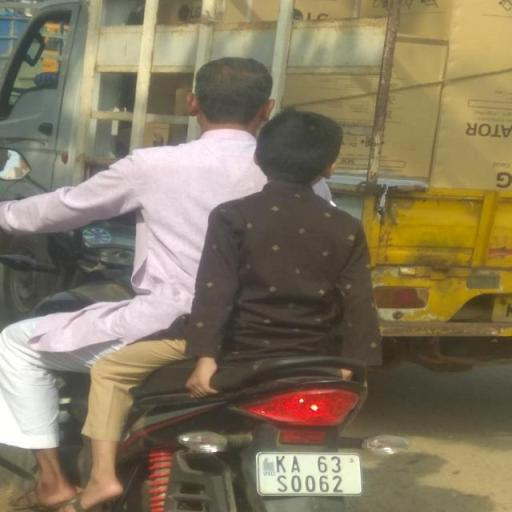bike: (4, 53, 415, 512)
numberplate: (256, 452, 364, 494)
withouthelmet: (258, 114, 338, 180), (198, 59, 272, 128)
